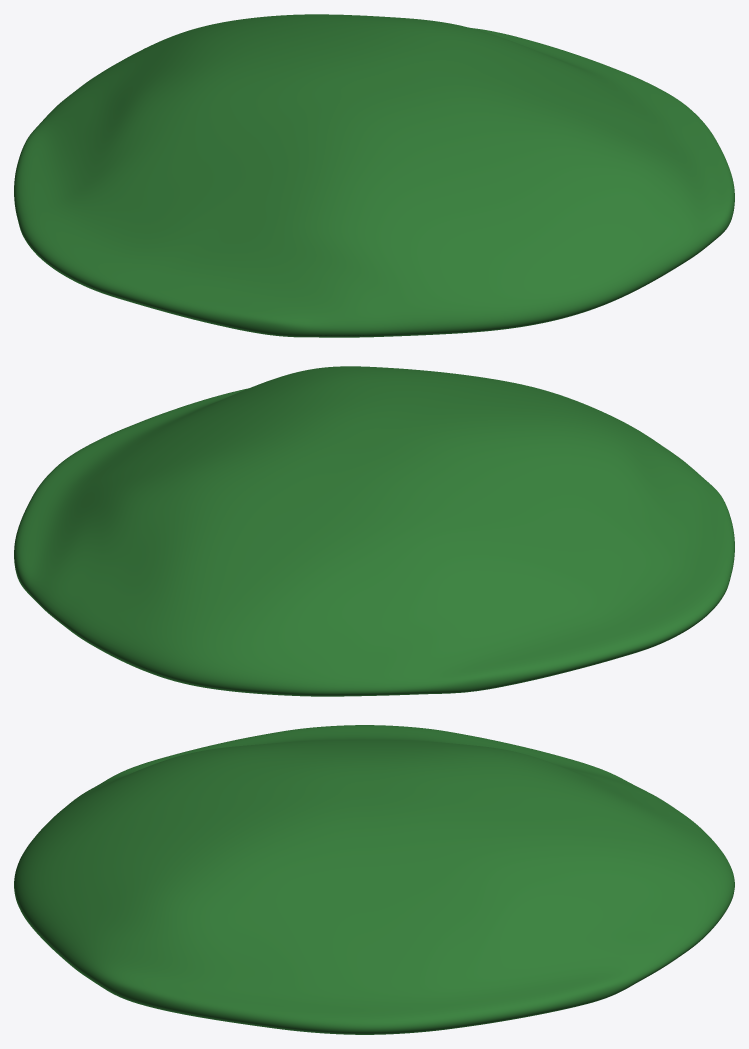
Rendered from terrain1.fbx.
3 renders of one model, top to bottom at view 1: azimuth 30°, elevation 25°; view 2: azimuth 150°, elevation 25°; view 3: azimuth 270°, elevation 25°, orthographic. The views are drawn at different scales.
Visible parts, largest first — view 1: Cube; view 2: Cube; view 3: Cube.
Part boxes in pixels (box(x1,y1,x2,y2)): Cube: box(14, 14, 734, 337); Cube: box(14, 366, 734, 696); Cube: box(14, 725, 734, 1034).
Bounding box in the file's own units: 1344 × 221 × 1360.
